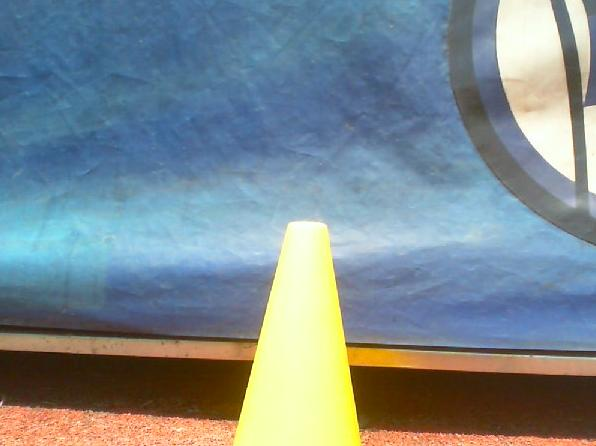0 cone: (229, 221, 367, 446)
